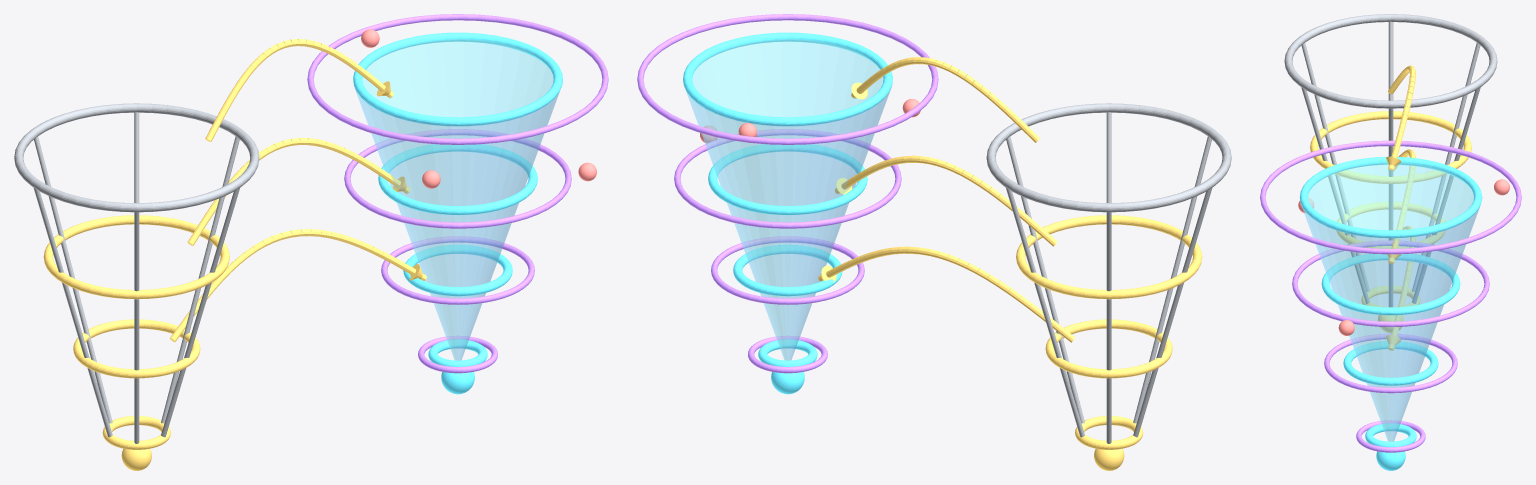
Rendered from superstructure_cone.glb.
The picture shows the model from 3 angles, left to right: view 1: azimuth 30°, elevation 25°; view 2: azimuth 150°, elevation 25°; view 3: azimuth 270°, elevation 25°; orthographic projection. The views are drawn at different scales.
Visible parts, largest first — view 1: Mesh_HaloGlass, Mesh_HyperGold, Mesh_StandardSilver, Mesh_InfinitesimalCyan, Mesh_UltrafilterViolet, Mesh_UnlimitedCoral; view 2: Mesh_HaloGlass, Mesh_HyperGold, Mesh_StandardSilver, Mesh_InfinitesimalCyan, Mesh_UltrafilterViolet; view 3: Mesh_HaloGlass, Mesh_InfinitesimalCyan, Mesh_UltrafilterViolet, Mesh_StandardSilver, Mesh_HyperGold, Mesh_UnlimitedCoral.
Boxes of the visible parts, <box> form: Mesh_HaloGlass: <box>353,39,562,360</box>; Mesh_HyperGold: <box>43,39,426,470</box>; Mesh_StandardSilver: <box>14,103,259,443</box>; Mesh_InfinitesimalCyan: <box>353,32,562,394</box>; Mesh_UltrafilterViolet: <box>307,14,608,373</box>; Mesh_UnlimitedCoral: <box>361,29,596,188</box>; Mesh_HaloGlass: <box>683,39,892,360</box>; Mesh_HyperGold: <box>818,57,1202,470</box>; Mesh_StandardSilver: <box>986,103,1231,443</box>; Mesh_InfinitesimalCyan: <box>683,32,892,394</box>; Mesh_UltrafilterViolet: <box>637,14,938,373</box>; Mesh_HaloGlass: <box>1299,162,1482,441</box>; Mesh_InfinitesimalCyan: <box>1300,156,1481,470</box>; Mesh_UltrafilterViolet: <box>1260,140,1521,452</box>; Mesh_StandardSilver: <box>1284,14,1497,306</box>; Mesh_HyperGold: <box>1310,65,1471,350</box>; Mesh_UnlimitedCoral: <box>1298,179,1509,335</box>.
Size of the model in its own units: 0.7643 by 0.4989 by 0.3576.
